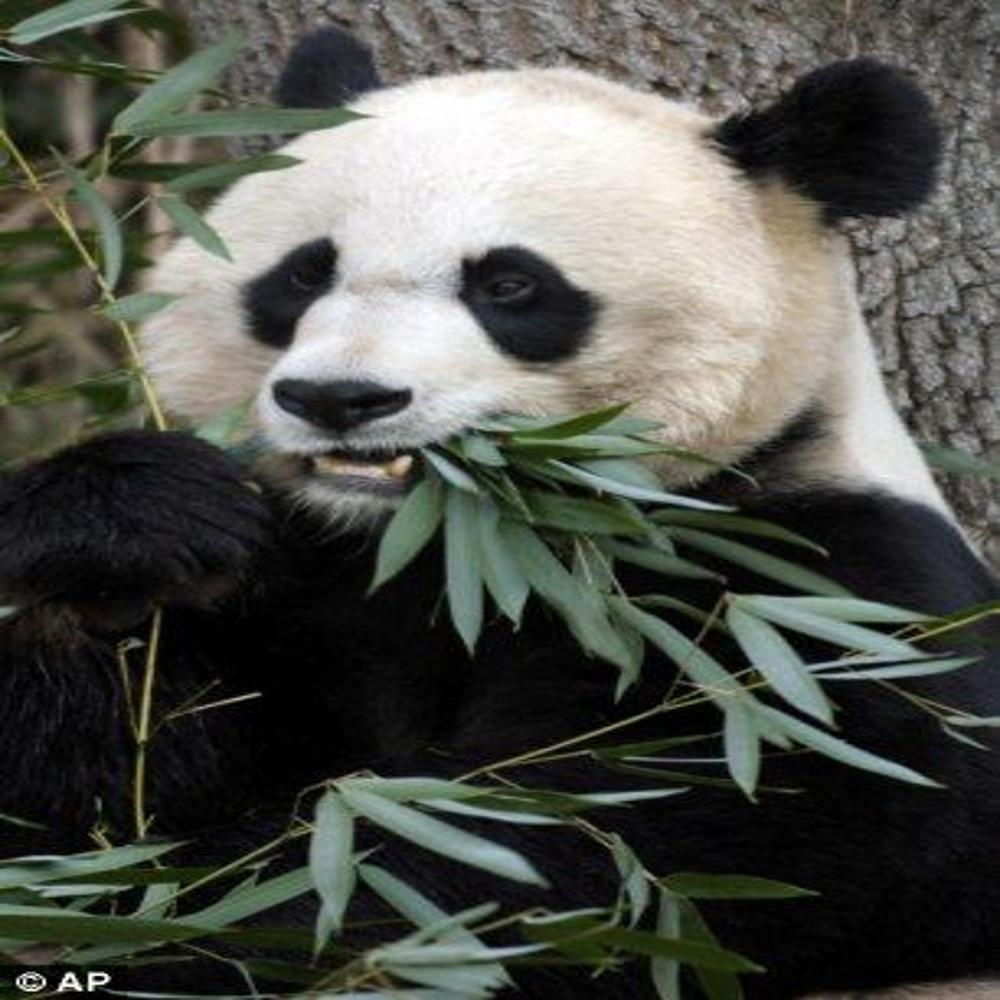panda: (0, 26, 966, 819)
